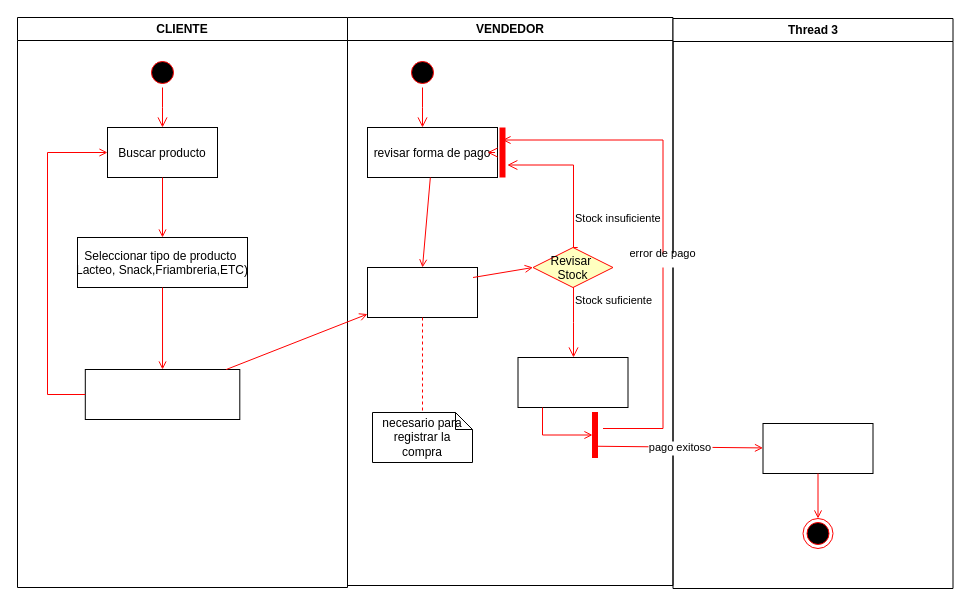
The diagram is 971 pixels wide and 606 high, and some of its shapes have lost their labels. Here are the shapes that lost their labels. From the top down, the centre of each, then its label:
At pixel 422 292: "verificar productos seleccionados".
At pixel 162 394: "armar carro de compra".
At pixel 572 382: "Procesar pago".
At pixel 817 448: "Generar boleta".
